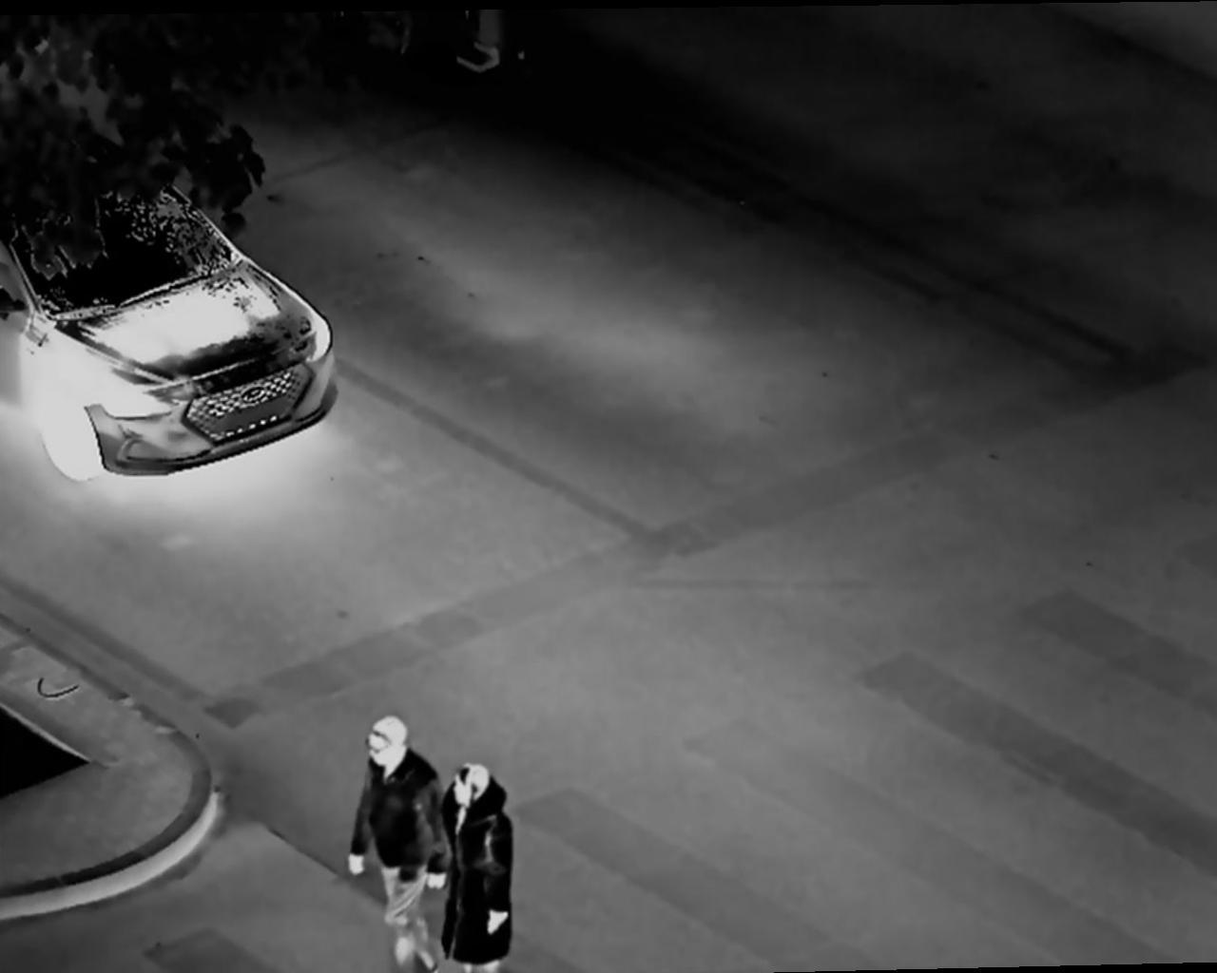person: (338, 708, 450, 966), (432, 756, 510, 973)
